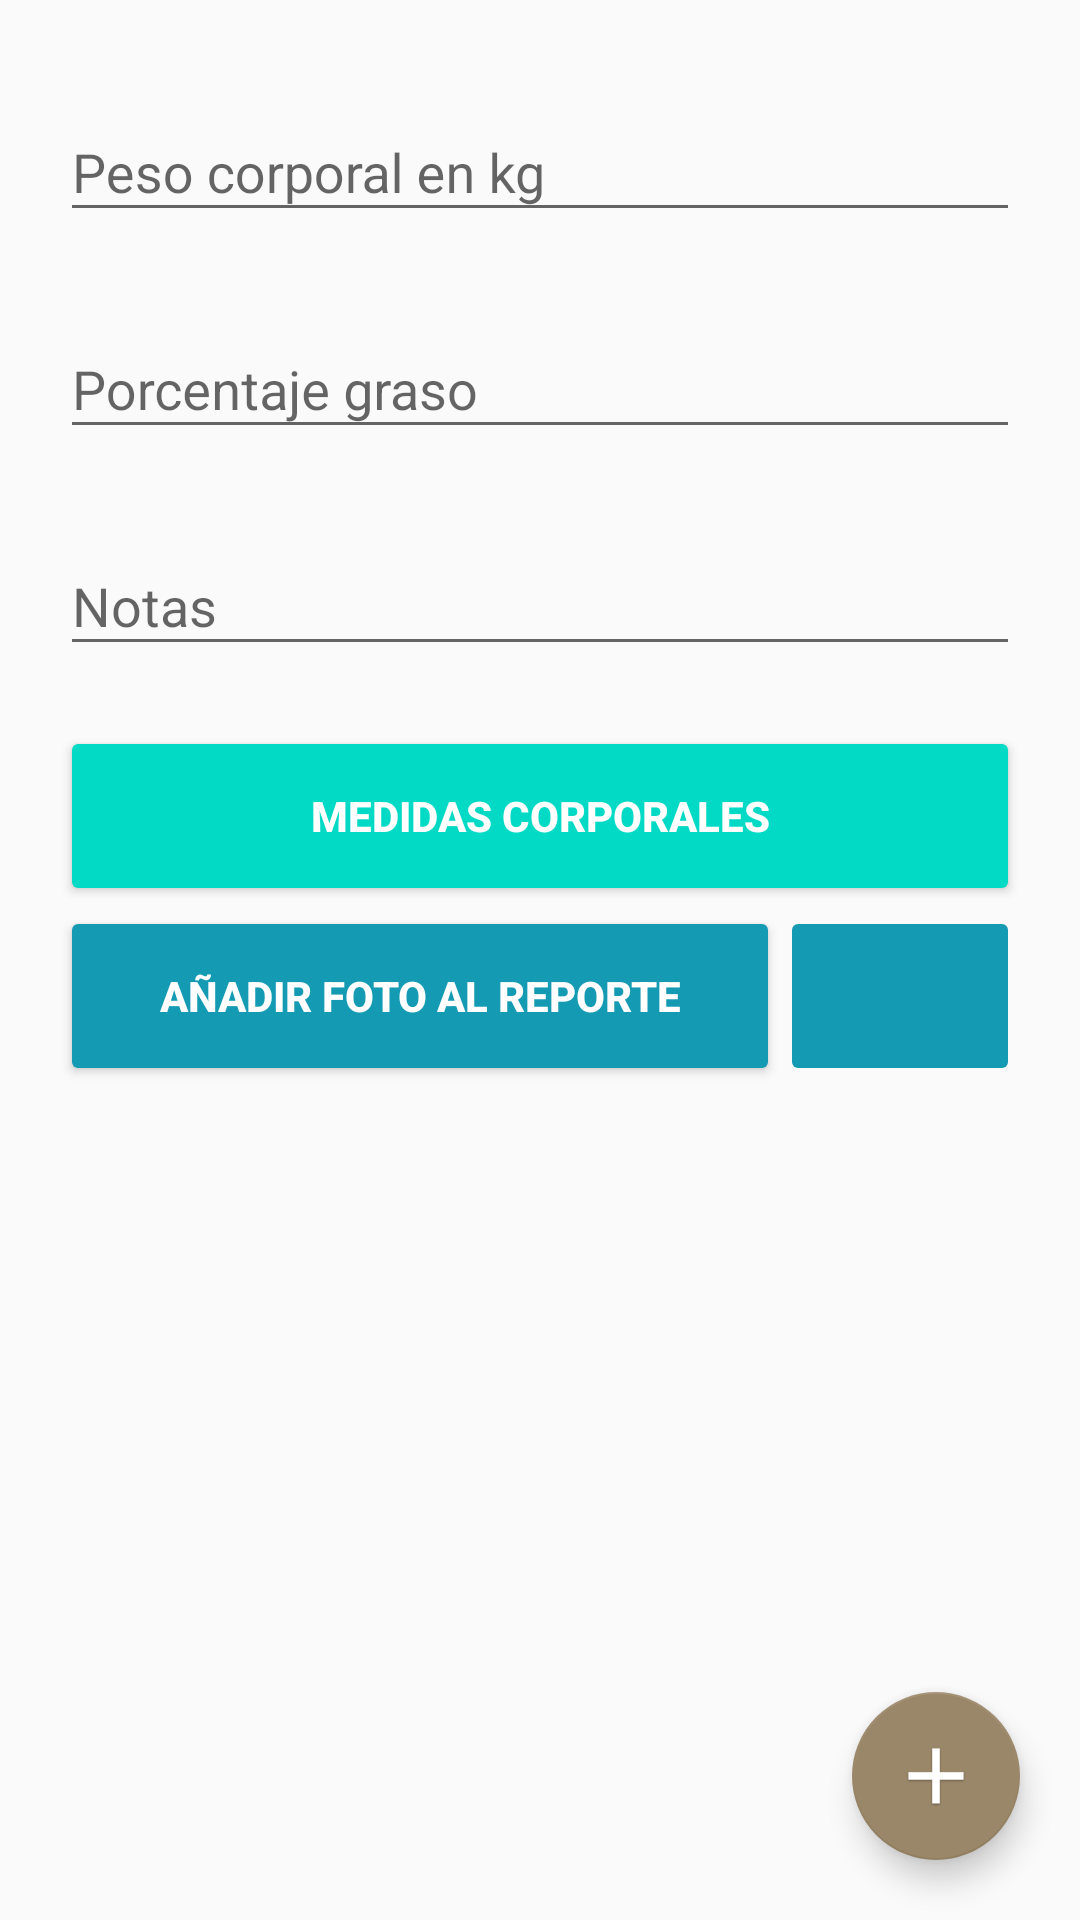

Icon click points for this 1080px×1920px phone screenshot, format (x,y):
Añadir Producto: (936,1776)
